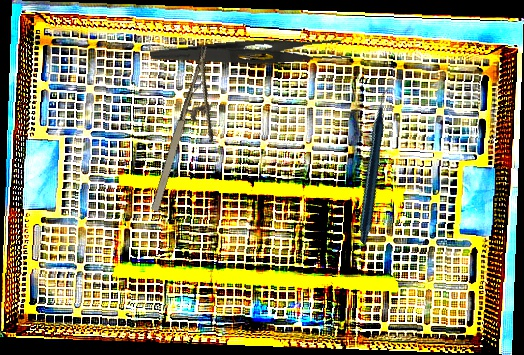Dressing Forceps: (149, 29, 352, 83)
Handpiece: (297, 86, 456, 246)
Needle Holder: (146, 45, 241, 221)
